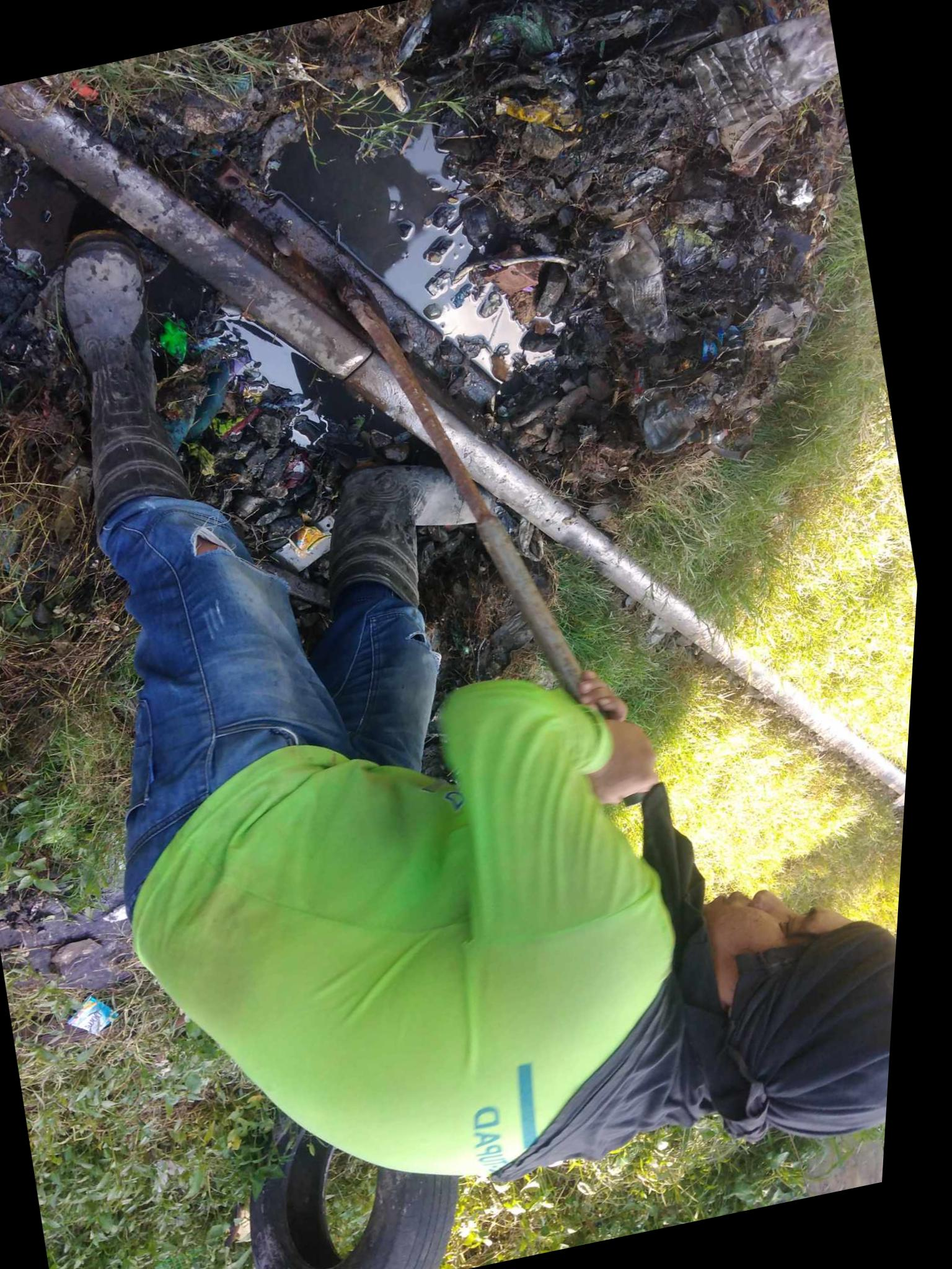person: (307, 307, 421, 420)
